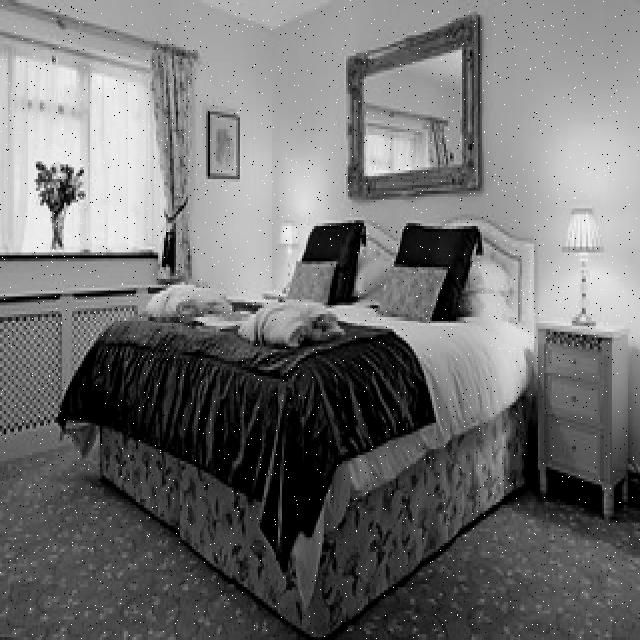bed: (83, 217, 545, 614)
